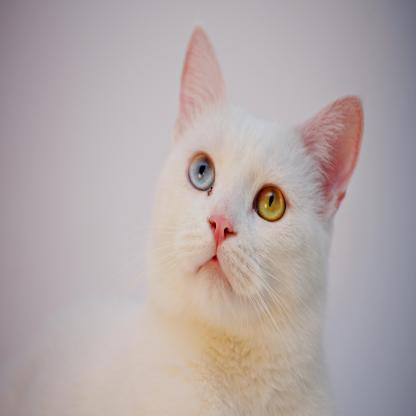cat: (1, 20, 369, 416)
